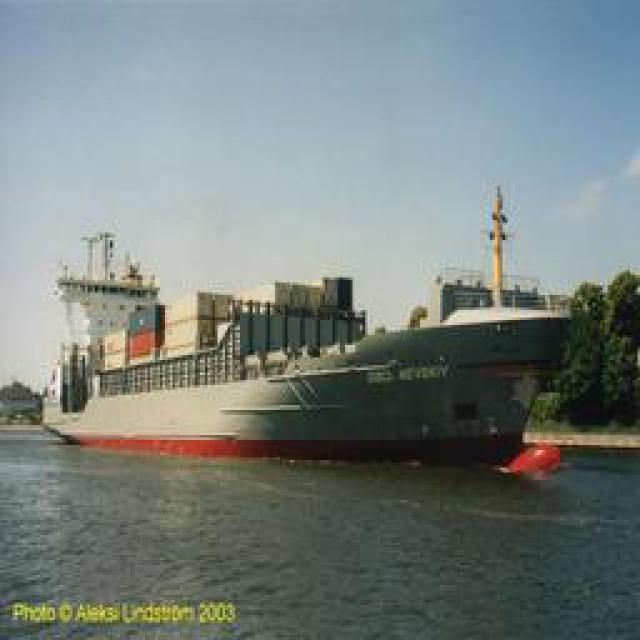Ship: (34, 206, 578, 489)
